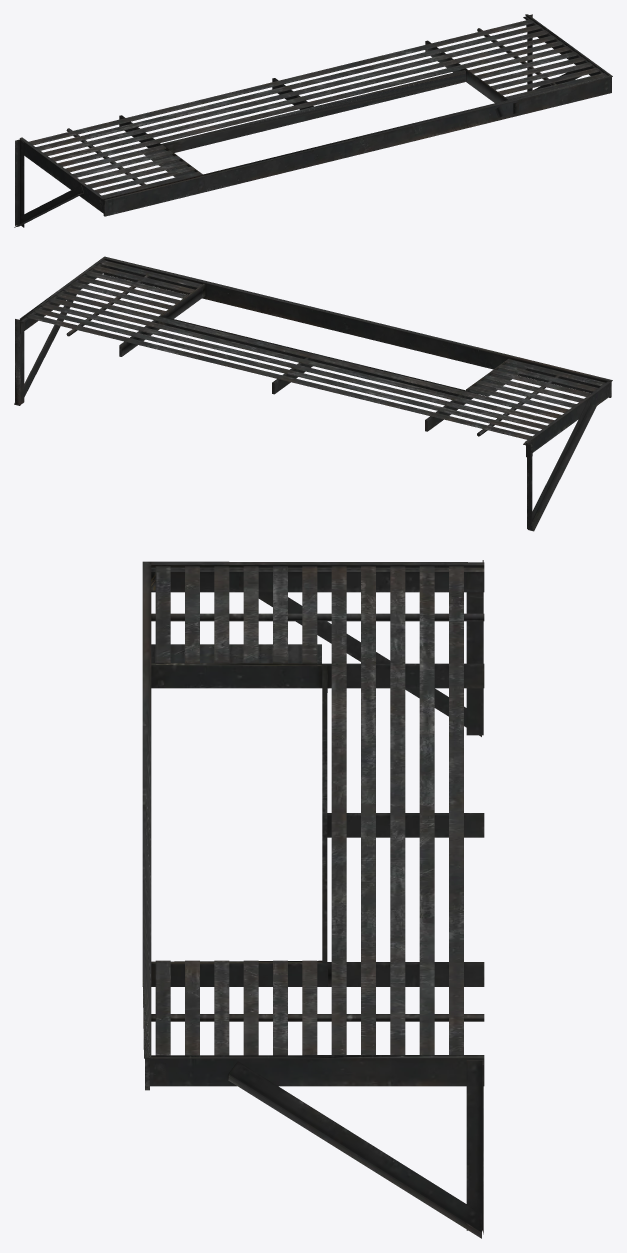
File: modular-fire-escape-platform.glb
3 renders of one model, top to bottom at view 1: azimuth 30°, elevation 25°; view 2: azimuth 150°, elevation 25°; view 3: azimuth 270°, elevation 25°, orthographic. The views are drawn at different scales.
Visible parts, largest first — view 1: modular_fire_escape_platform; view 2: modular_fire_escape_platform; view 3: modular_fire_escape_platform.
Boxes of the visible parts, <box> form: modular_fire_escape_platform: <box>14,14,612,227</box>; modular_fire_escape_platform: <box>14,256,612,531</box>; modular_fire_escape_platform: <box>142,560,484,1238</box>.
Size of the model in its own units: 4.79 by 0.7723 by 1.36.
Materials: 1 (1 with a texture image).
